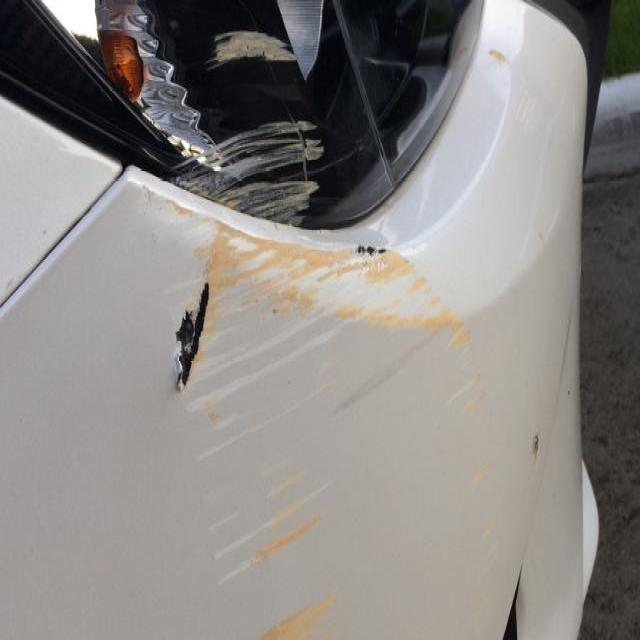Dent: (186, 284, 355, 426), (1, 180, 126, 360), (332, 318, 444, 412), (202, 115, 326, 178), (225, 506, 325, 576), (194, 401, 293, 463), (547, 286, 577, 433), (251, 590, 337, 636), (206, 27, 298, 66), (262, 461, 315, 500), (444, 371, 482, 410), (267, 283, 307, 316), (350, 243, 388, 276), (468, 453, 492, 491), (475, 578, 498, 616), (174, 311, 194, 353), (139, 181, 161, 216), (447, 324, 471, 350), (477, 513, 496, 544), (298, 133, 322, 157), (127, 11, 151, 30), (224, 236, 256, 250), (486, 48, 507, 63), (139, 36, 158, 51), (2, 276, 15, 296), (295, 119, 317, 130), (206, 408, 219, 422), (531, 433, 538, 458), (356, 244, 364, 253), (376, 246, 385, 253), (537, 230, 542, 240), (272, 306, 279, 313), (261, 50, 266, 57), (566, 387, 570, 394), (41, 229, 46, 234)
